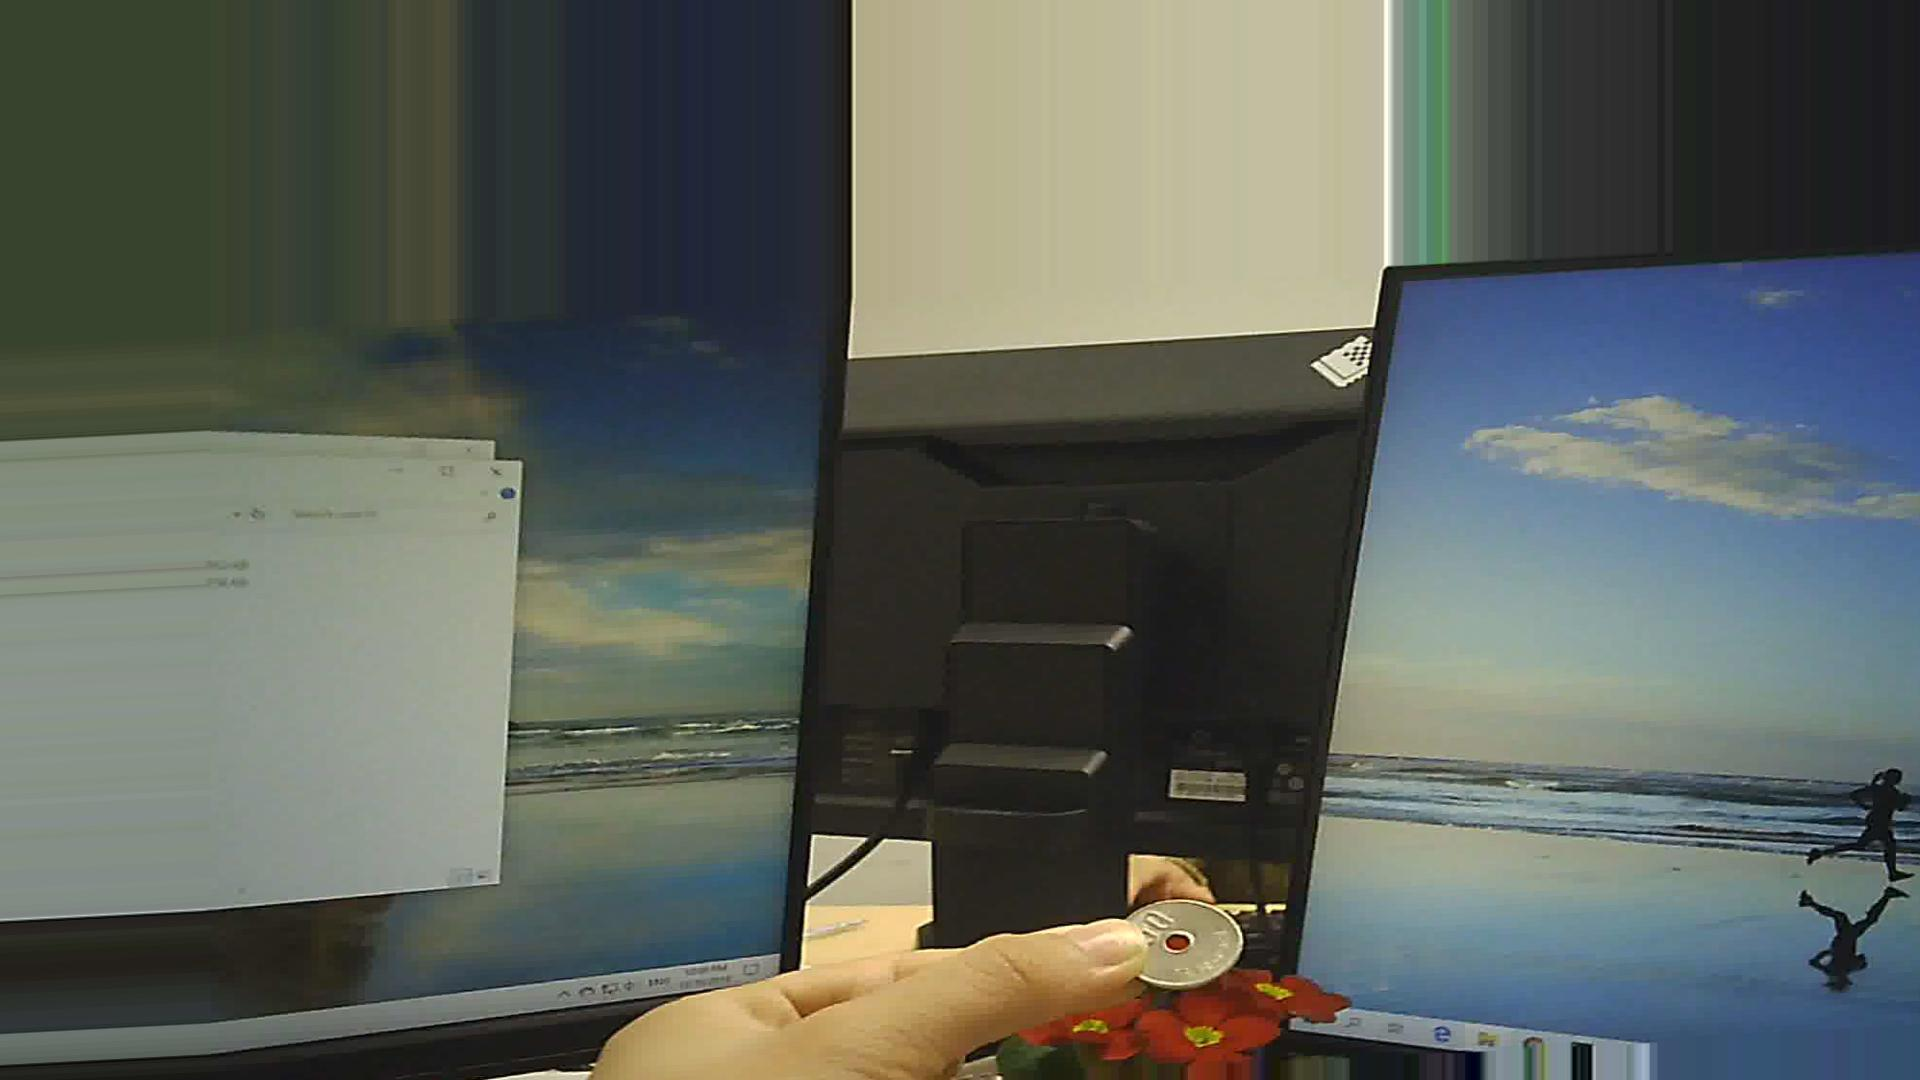50 Yen: (1113, 880, 1265, 1006)
